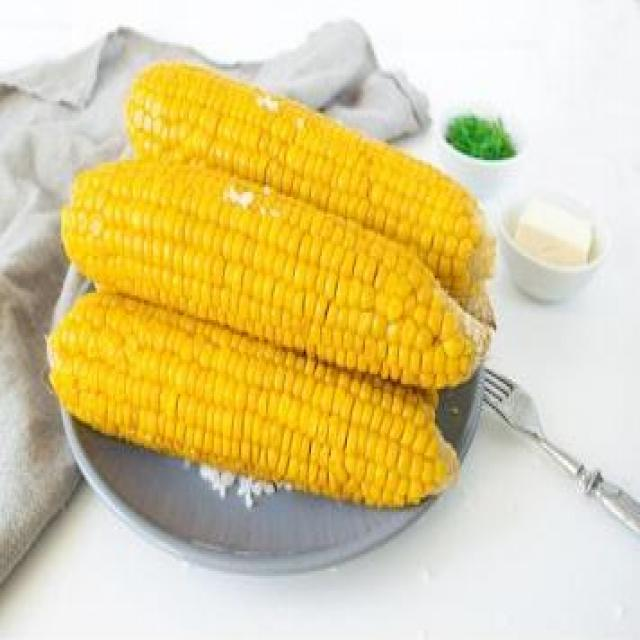Corn ear: (63, 159, 277, 335), (275, 217, 487, 382), (225, 362, 431, 502), (43, 296, 220, 456), (121, 60, 308, 183), (292, 119, 486, 216)
